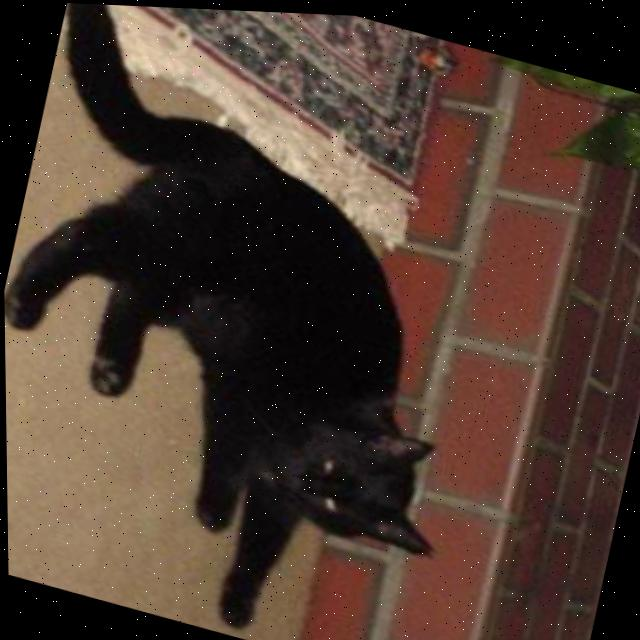Bombay: (0, 0, 546, 640)
